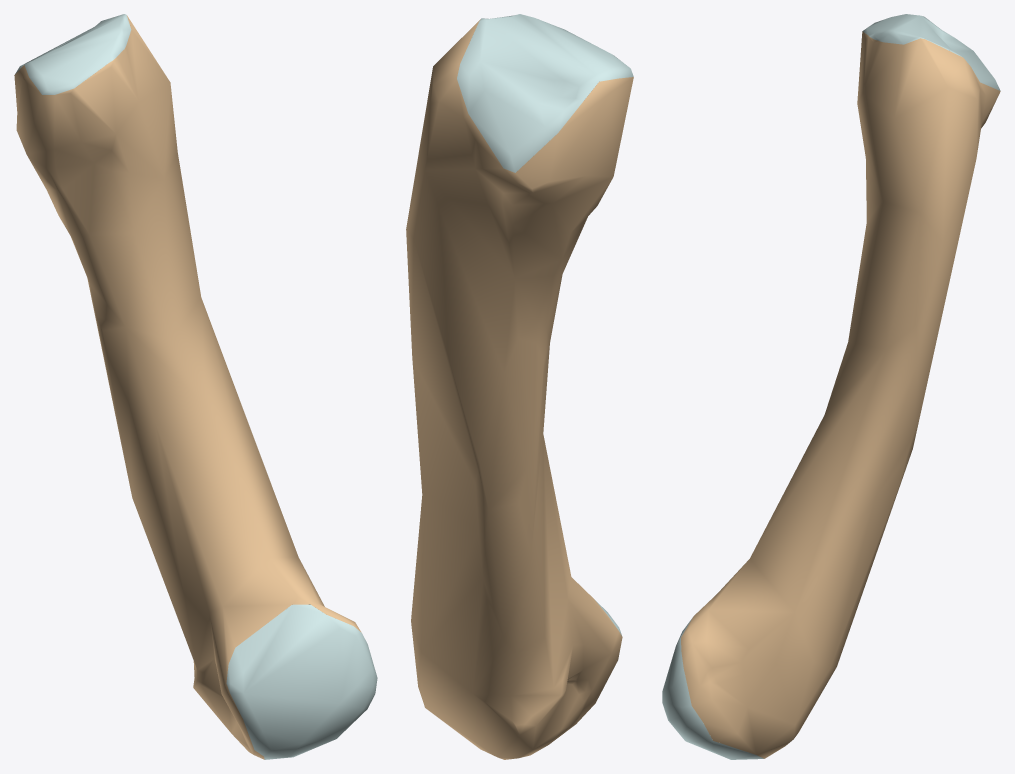
File: 5th_metacarpal_bone.r_Generated_Mesh_From_X3D.738.glb
3 views of the same model, side by side, from view 1: azimuth 30°, elevation 25°; view 2: azimuth 150°, elevation 25°; view 3: azimuth 270°, elevation 25° (orthographic). The views are drawn at different scales.
Visible parts, largest first — view 1: 5th_metacarpal_bone.r_Generated_Mesh_From_X3D.738; view 2: 5th_metacarpal_bone.r_Generated_Mesh_From_X3D.738; view 3: 5th_metacarpal_bone.r_Generated_Mesh_From_X3D.738.
Part boxes in pixels (x1,y1,x2,y2): 5th_metacarpal_bone.r_Generated_Mesh_From_X3D.738: (14,14,377,759); 5th_metacarpal_bone.r_Generated_Mesh_From_X3D.738: (406,14,633,759); 5th_metacarpal_bone.r_Generated_Mesh_From_X3D.738: (662,14,1000,759).
Bounding box in the file's own units: 0.0209 × 0.057 × 0.0255.
